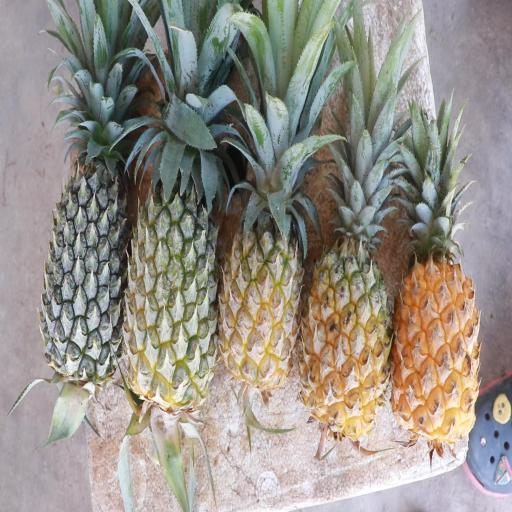------------------------------: (125, 129, 219, 408)
Pineapple - v8 v1: (387, 215, 478, 438), (306, 204, 388, 434), (216, 174, 298, 388)
